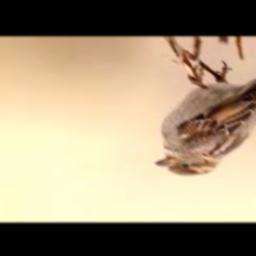Sparrow: (154, 44, 256, 175)
